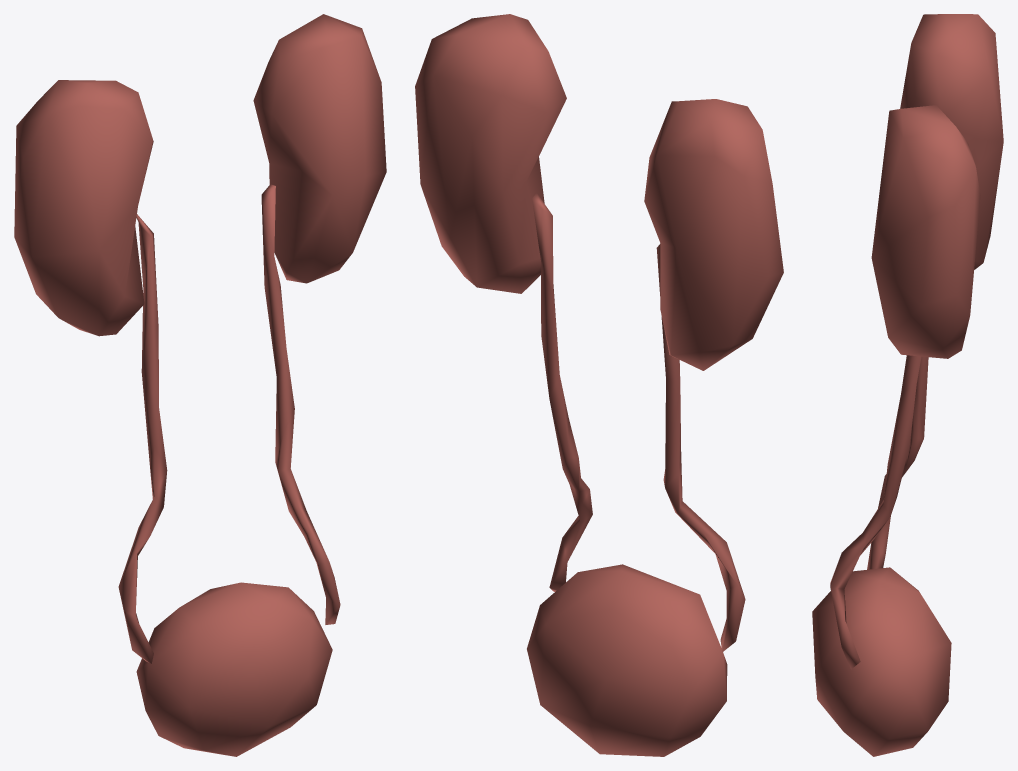
The model's file is pediatric_adolescent_male.urinary.LOD3.glb.
3 views of the same model, side by side, from view 1: azimuth 30°, elevation 25°; view 2: azimuth 150°, elevation 25°; view 3: azimuth 270°, elevation 25° (orthographic). The views are drawn at different scales.
Visible parts, largest first — view 1: PEDIATRIC.ADOLESCENT.MALE.URINARY.KIDNEY_CORTEX.R, PEDIATRIC.ADOLESCENT.MALE.URINARY.KIDNEY_CORTEX.L, PEDIATRIC.ADOLESCENT.MALE.URINARY.URINARY_BLADDER_WALL, PEDIATRIC.ADOLESCENT.MALE.URINARY.URETER.R, PEDIATRIC.ADOLESCENT.MALE.URINARY.URETER.L; view 2: PEDIATRIC.ADOLESCENT.MALE.URINARY.KIDNEY_CORTEX.L, PEDIATRIC.ADOLESCENT.MALE.URINARY.URINARY_BLADDER_WALL, PEDIATRIC.ADOLESCENT.MALE.URINARY.KIDNEY_CORTEX.R, PEDIATRIC.ADOLESCENT.MALE.URINARY.URETER.L, PEDIATRIC.ADOLESCENT.MALE.URINARY.URETER.R; view 3: PEDIATRIC.ADOLESCENT.MALE.URINARY.KIDNEY_CORTEX.L, PEDIATRIC.ADOLESCENT.MALE.URINARY.URINARY_BLADDER_WALL, PEDIATRIC.ADOLESCENT.MALE.URINARY.KIDNEY_CORTEX.R, PEDIATRIC.ADOLESCENT.MALE.URINARY.URETER.L, PEDIATRIC.ADOLESCENT.MALE.URINARY.URETER.R.
Boxes of the visible parts, box(x1,y1,x2,y2) form: PEDIATRIC.ADOLESCENT.MALE.URINARY.KIDNEY_CORTEX.R: box(14, 80, 153, 336); PEDIATRIC.ADOLESCENT.MALE.URINARY.KIDNEY_CORTEX.L: box(253, 14, 386, 283); PEDIATRIC.ADOLESCENT.MALE.URINARY.URINARY_BLADDER_WALL: box(136, 582, 332, 756); PEDIATRIC.ADOLESCENT.MALE.URINARY.URETER.R: box(118, 214, 167, 663); PEDIATRIC.ADOLESCENT.MALE.URINARY.URETER.L: box(261, 184, 340, 624); PEDIATRIC.ADOLESCENT.MALE.URINARY.KIDNEY_CORTEX.L: box(415, 14, 566, 293); PEDIATRIC.ADOLESCENT.MALE.URINARY.URINARY_BLADDER_WALL: box(527, 564, 727, 756); PEDIATRIC.ADOLESCENT.MALE.URINARY.KIDNEY_CORTEX.R: box(644, 99, 783, 370); PEDIATRIC.ADOLESCENT.MALE.URINARY.URETER.L: box(532, 193, 592, 591); PEDIATRIC.ADOLESCENT.MALE.URINARY.URETER.R: box(656, 244, 745, 652); PEDIATRIC.ADOLESCENT.MALE.URINARY.KIDNEY_CORTEX.L: box(871, 105, 980, 358); PEDIATRIC.ADOLESCENT.MALE.URINARY.URINARY_BLADDER_WALL: box(812, 567, 951, 756); PEDIATRIC.ADOLESCENT.MALE.URINARY.KIDNEY_CORTEX.R: box(900, 14, 1003, 269); PEDIATRIC.ADOLESCENT.MALE.URINARY.URETER.L: box(830, 355, 921, 669); PEDIATRIC.ADOLESCENT.MALE.URINARY.URETER.R: box(867, 356, 928, 569).
Bounding box in the file's own units: 0.1685 × 0.314 × 0.0797.
